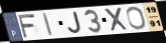3: (83, 8, 102, 34)
F: (16, 13, 36, 39)
I: (42, 12, 55, 37)
J: (67, 11, 84, 35)
O: (125, 6, 148, 31)
X: (103, 7, 130, 33)
